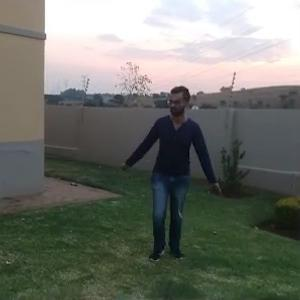land: (130, 87, 221, 276)
